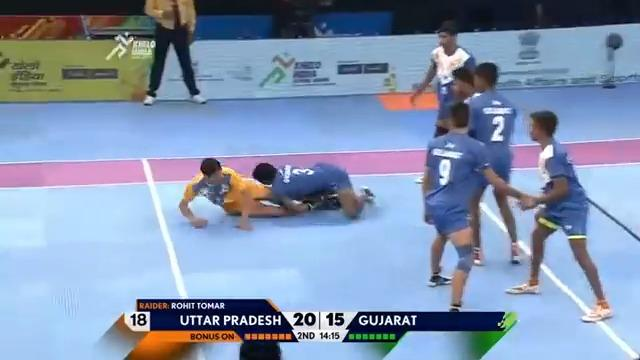Player: (422, 101, 533, 311), (505, 109, 614, 322), (463, 61, 522, 265), (409, 19, 476, 183), (251, 160, 374, 221), (142, 0, 207, 105)
Raider: (178, 157, 305, 231)
